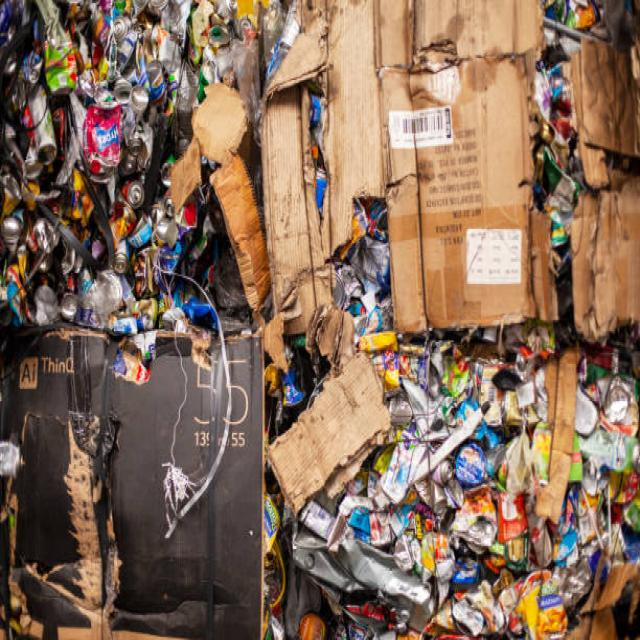metal: (26, 2, 204, 298)
plastic: (318, 390, 611, 598)
